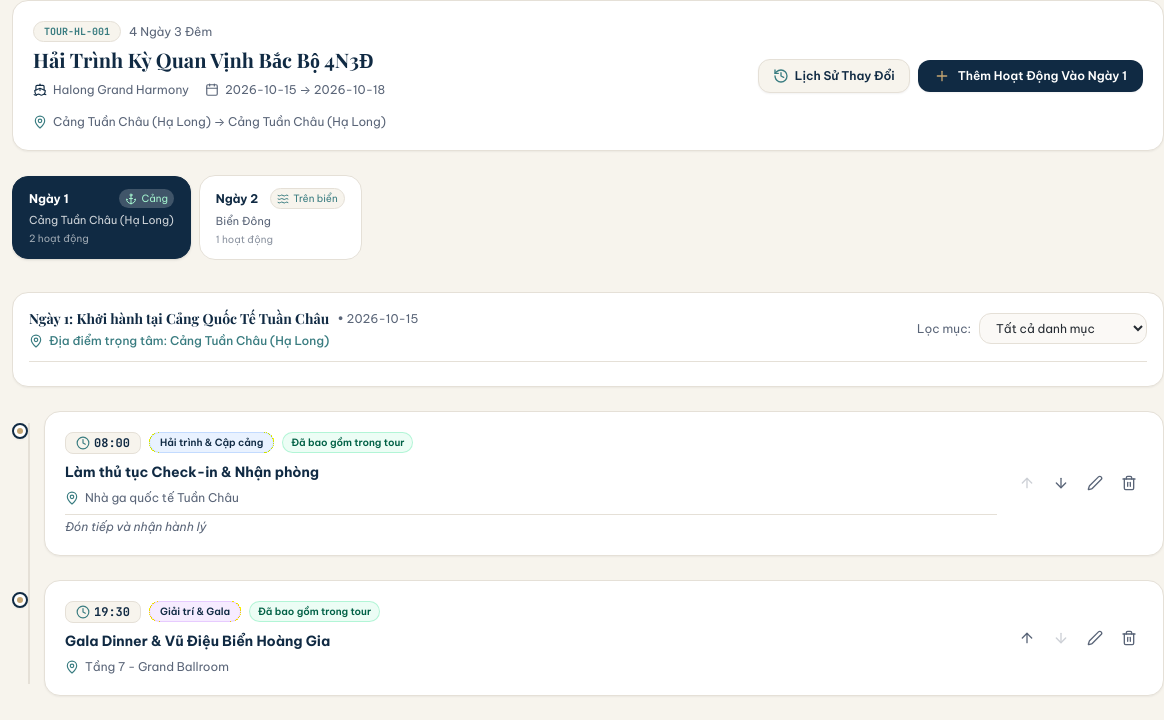
Scenario: DailyItineraryTimeline (KAN-119) › filters activities by category select
The width and height of the screenshot is (1164, 720).
Expected: the heading "Làm thủ tục Check-in & Nhận phòng" is shown, left=65, top=462, right=319, bottom=480
Expected: the heading "Gala Dinner & Vũ Điệu Biển Hoàng Gia" is shown, left=65, top=632, right=330, bottom=650
Select "Hải trình & Cập cảng" in the dropdown named "Lọc hoạt động theo loại" at point(1063, 328), box left=979, top=313, right=1147, bottom=344
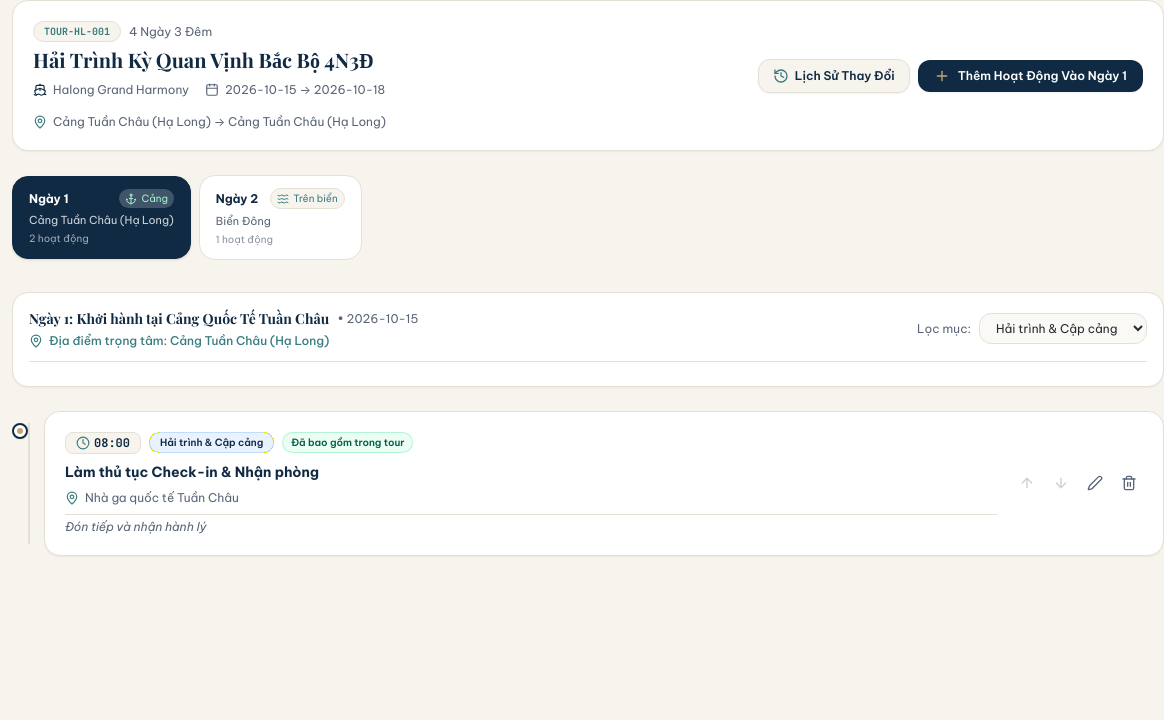
Expected: the heading "Làm thủ tục Check-in & Nhận phòng" is shown, left=65, top=462, right=319, bottom=480
Result: the heading "Gala Dinner & Vũ Điệu Biển Hoàng Gia" is gone
